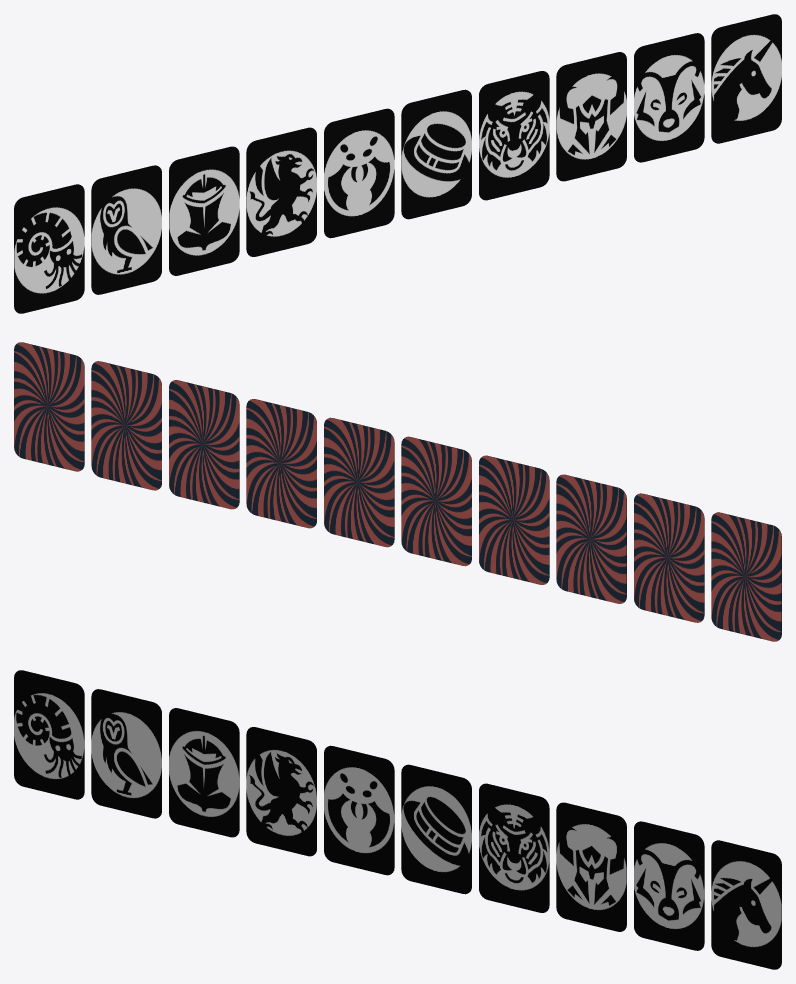
The model's file is GameCardsV2.fbx.
The picture shows the model from 3 angles, top to bottom: view 1: azimuth 30°, elevation 25°; view 2: azimuth 150°, elevation 25°; view 3: azimuth 330°, elevation 25°; orthographic projection.
Visible parts, largest first — view 1: Card.002, Card.007, Card.001, Card.008, Card, Card.003, Card.004, Card.005, Card.006, Card.009; view 2: Card.002, Card.007, Card.001, Card.008, Card, Card.003, Card.004, Card.005, Card.006, Card.009; view 3: Card.002, Card.007, Card.001, Card.008, Card, Card.003, Card.004, Card.005, Card.006, Card.009.
Boxes of the visible parts, box(x1,y1,x2,y2) form: Card.002: box(169, 146, 239, 275); Card.007: box(556, 52, 626, 181); Card.001: box(91, 165, 161, 294); Card.008: box(634, 33, 704, 162); Card: box(14, 184, 84, 313); Card.003: box(246, 127, 316, 256); Card.004: box(324, 108, 394, 238); Card.005: box(401, 89, 471, 219); Card.006: box(479, 71, 549, 200); Card.009: box(711, 14, 781, 143); Card.002: box(556, 474, 626, 603); Card.007: box(169, 380, 239, 509); Card.001: box(634, 493, 704, 622); Card.008: box(91, 361, 161, 490); Card: box(711, 512, 781, 641); Card.003: box(479, 455, 549, 584); Card.004: box(401, 436, 471, 566); Card.005: box(324, 417, 394, 547); Card.006: box(246, 399, 316, 528); Card.009: box(14, 342, 84, 471); Card.002: box(169, 708, 239, 837); Card.007: box(556, 802, 626, 931); Card.001: box(91, 689, 161, 818); Card.008: box(634, 821, 704, 950); Card: box(14, 670, 84, 799); Card.003: box(246, 727, 316, 856); Card.004: box(324, 745, 394, 875); Card.005: box(401, 764, 471, 894); Card.006: box(479, 783, 549, 912); Card.009: box(711, 840, 781, 969).
Bounding box in the file's own units: 69.23 × 10 × 0.037.
